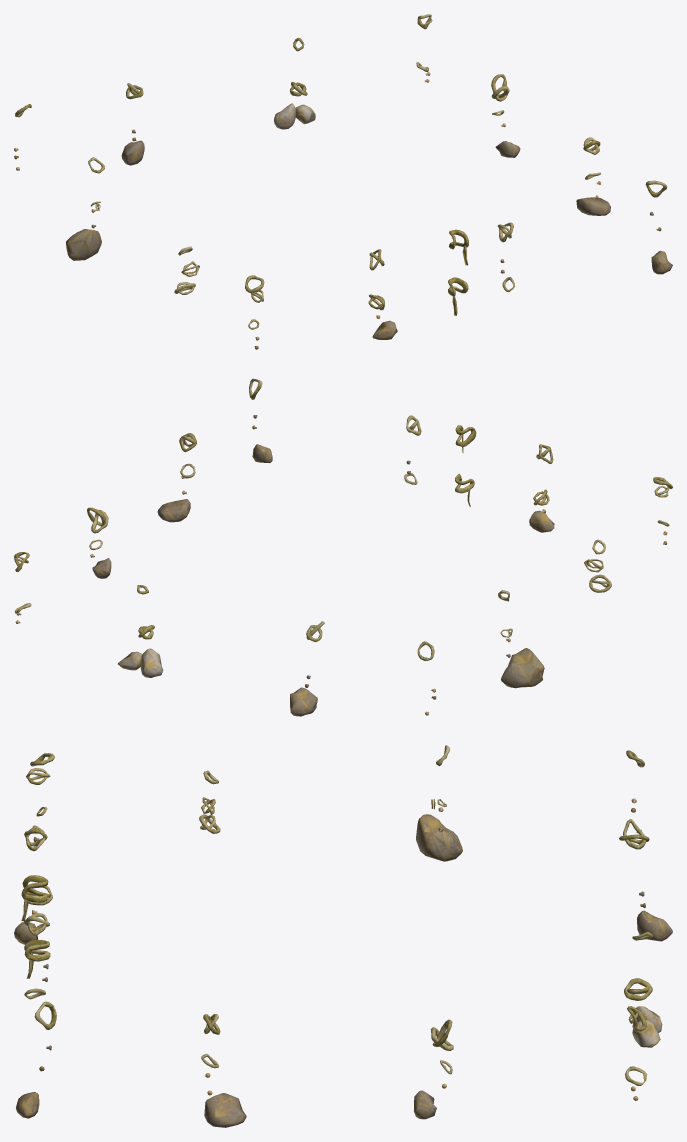
The model's file is VegetableGarden2L.fbx.
3 views of the same model, one above another, from view 1: azimuth 30°, elevation 25°; view 2: azimuth 150°, elevation 25°; view 3: azimuth 270°, elevation 25° (orthographic). The views are drawn at different scales.
Visible parts, largest first — view 1: VegetableGarden2L; view 2: VegetableGarden2L; view 3: VegetableGarden2L.
Boxes of the visible parts, x1,y1,x2,y2 form: VegetableGarden2L: [14, 14, 672, 349]; VegetableGarden2L: [14, 378, 672, 716]; VegetableGarden2L: [14, 745, 672, 1127].
Size of the model in its own units: 344 by 66.32 by 335.
